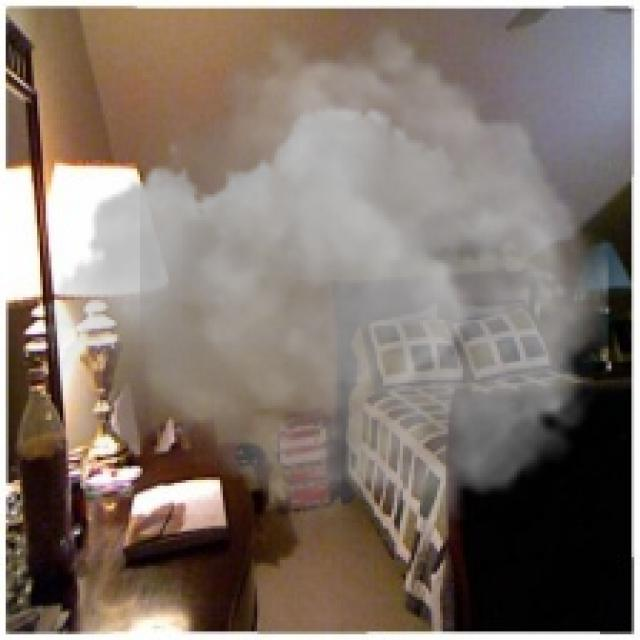smoke: (46, 6, 608, 554)
